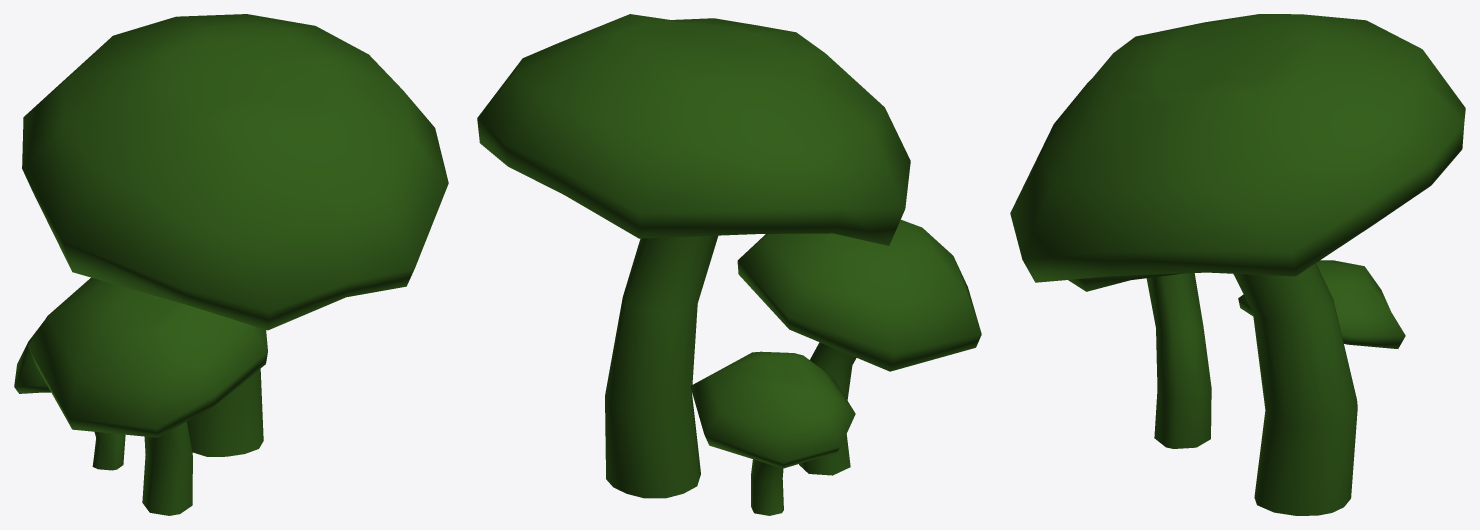
The model's file is MshrmSm1.fbx.
3 views of the same model, side by side, from view 1: azimuth 30°, elevation 25°; view 2: azimuth 150°, elevation 25°; view 3: azimuth 270°, elevation 25° (orthographic). The views are drawn at different scales.
Visible parts, largest first — view 1: MSHRM.002; view 2: MSHRM.002; view 3: MSHRM.002.
Boxes of the visible parts, x1=… form: MSHRM.002: x1=14, y1=14, x2=448, y2=515; MSHRM.002: x1=477, y1=14, x2=981, y2=515; MSHRM.002: x1=1010, y1=14, x2=1465, y2=515.
Bounding box in the file's own units: 81.51 × 79.58 × 72.34.
